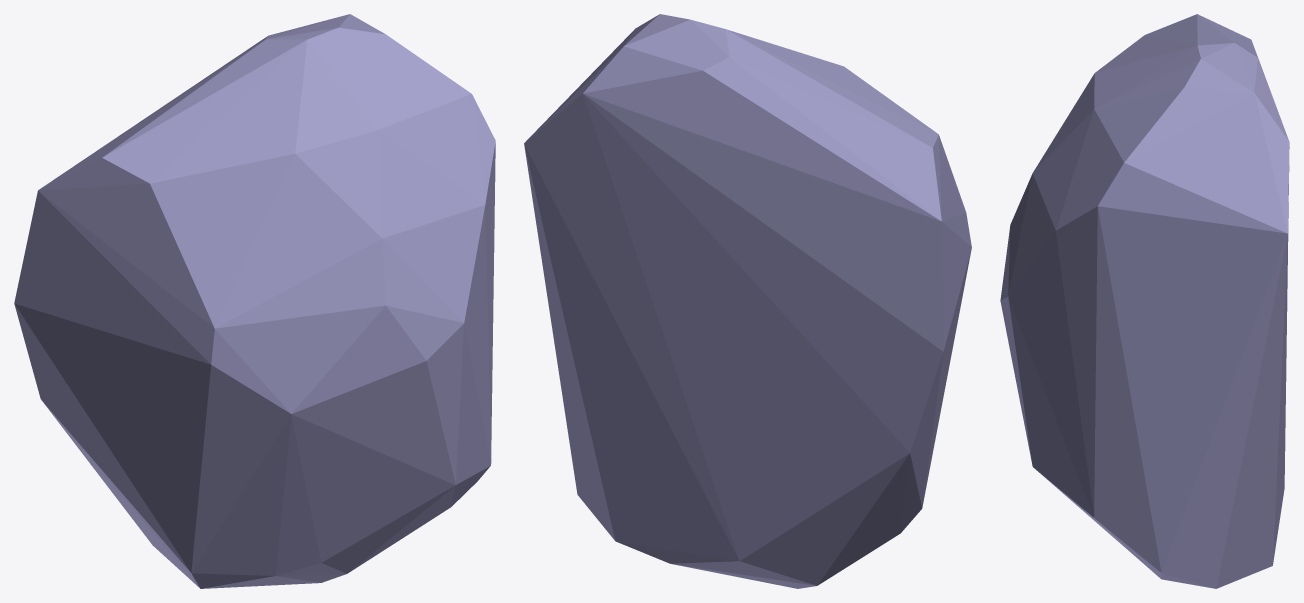
The model's file is food_prepared_bread_sourdoughDeepScore_a01.glb.
The picture shows the model from 3 angles, left to right: view 1: azimuth 30°, elevation 25°; view 2: azimuth 150°, elevation 25°; view 3: azimuth 270°, elevation 25°; orthographic projection. The views are drawn at different scales.
Visible parts, largest first — view 1: geometry_0; view 2: geometry_0; view 3: geometry_0.
Part boxes in pixels (left/top/right/bottom): geometry_0: left=14, top=14, right=495, bottom=588; geometry_0: left=524, top=14, right=971, bottom=588; geometry_0: left=1000, top=14, right=1289, bottom=588.
Bounding box in the file's own units: 0.3822 × 0.4749 × 0.2395.
